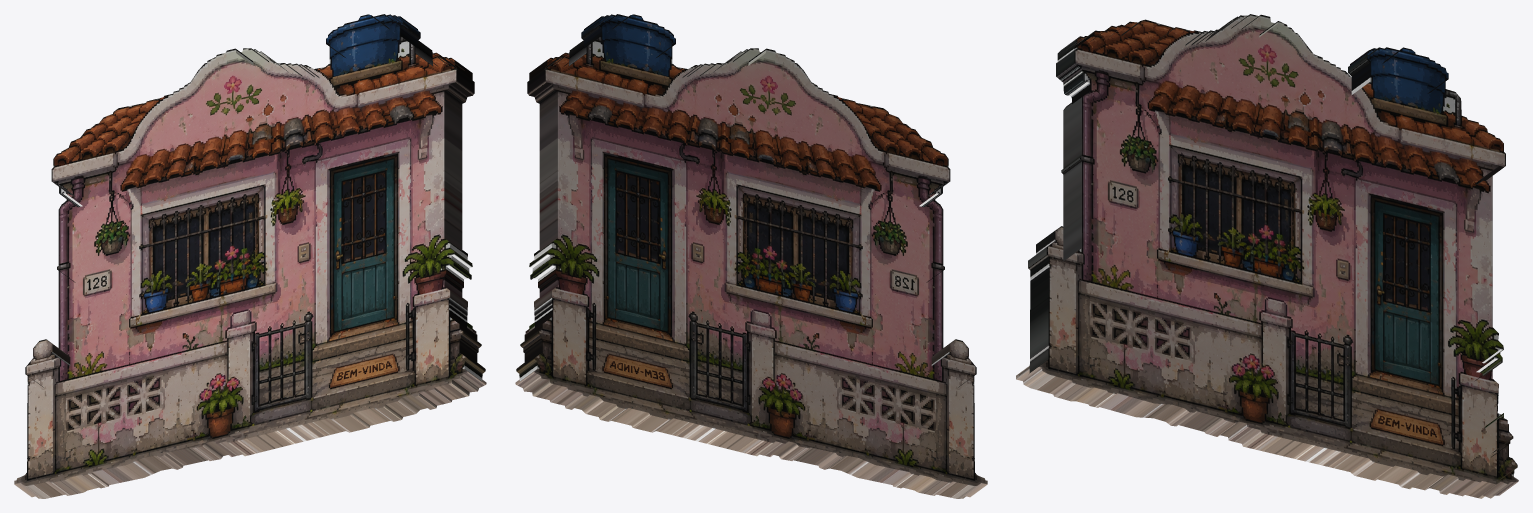
File: house_05_front.glb
The picture shows the model from 3 angles, left to right: view 1: azimuth 30°, elevation 25°; view 2: azimuth 150°, elevation 25°; view 3: azimuth 330°, elevation 25°; orthographic projection. The views are drawn at different scales.
Parts seen in each view (by area): view 1: world; view 2: world; view 3: world.
Boxes of the visible parts, <box> form: world: <box>14,14,486,498</box>; world: <box>515,14,987,498</box>; world: <box>1016,14,1518,498</box>.
Bounding box in the file's own units: 7.79 × 6.49 × 0.52.
Materials: 1 (1 with a texture image).
